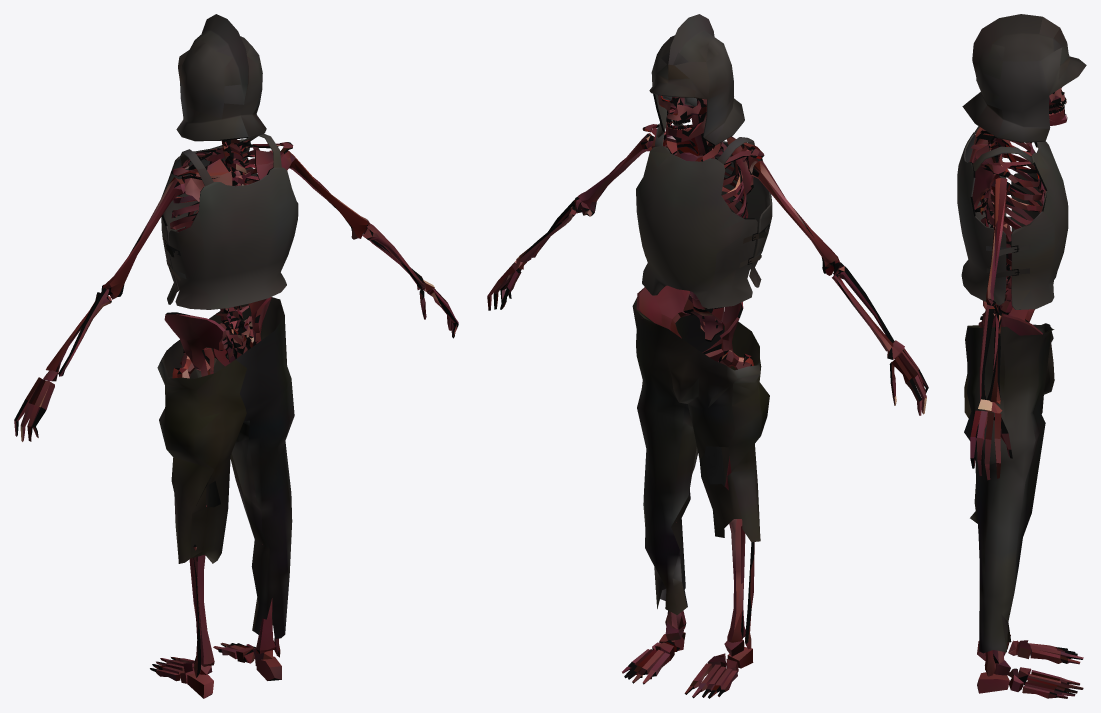
The picture shows the model from 3 angles, left to right: view 1: azimuth 30°, elevation 25°; view 2: azimuth 150°, elevation 25°; view 3: azimuth 270°, elevation 25°; orthographic projection. The views are drawn at different scales.
Parts seen in each view (by area): view 1: mesh_0; view 2: mesh_0; view 3: mesh_0.
Boxes of the visible parts, x1,y1,x2,y2 form: mesh_0: (14,14,458,698); mesh_0: (487,14,928,698); mesh_0: (957,14,1086,698).
Size of the model in its own units: 51.83 by 74.4 by 13.15.
Materials: 1 (1 with a texture image).
